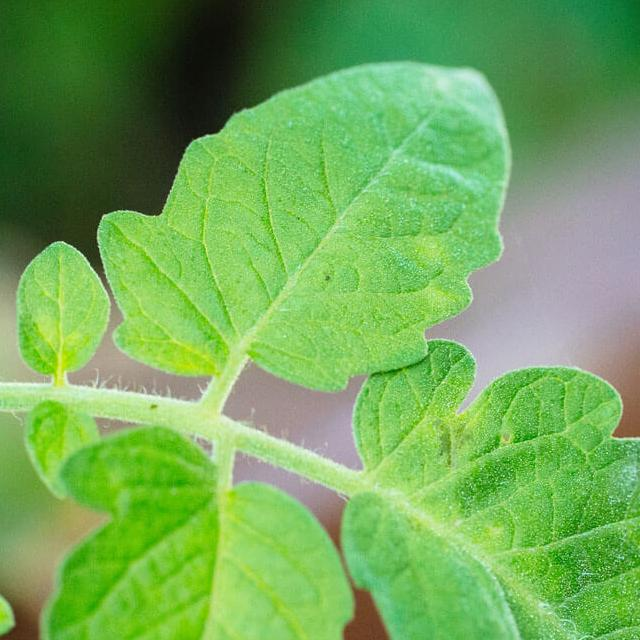Tomato leaf: (117, 48, 511, 413), (361, 344, 640, 640), (53, 418, 335, 640), (7, 227, 110, 396), (0, 450, 25, 640), (0, 391, 17, 573)
